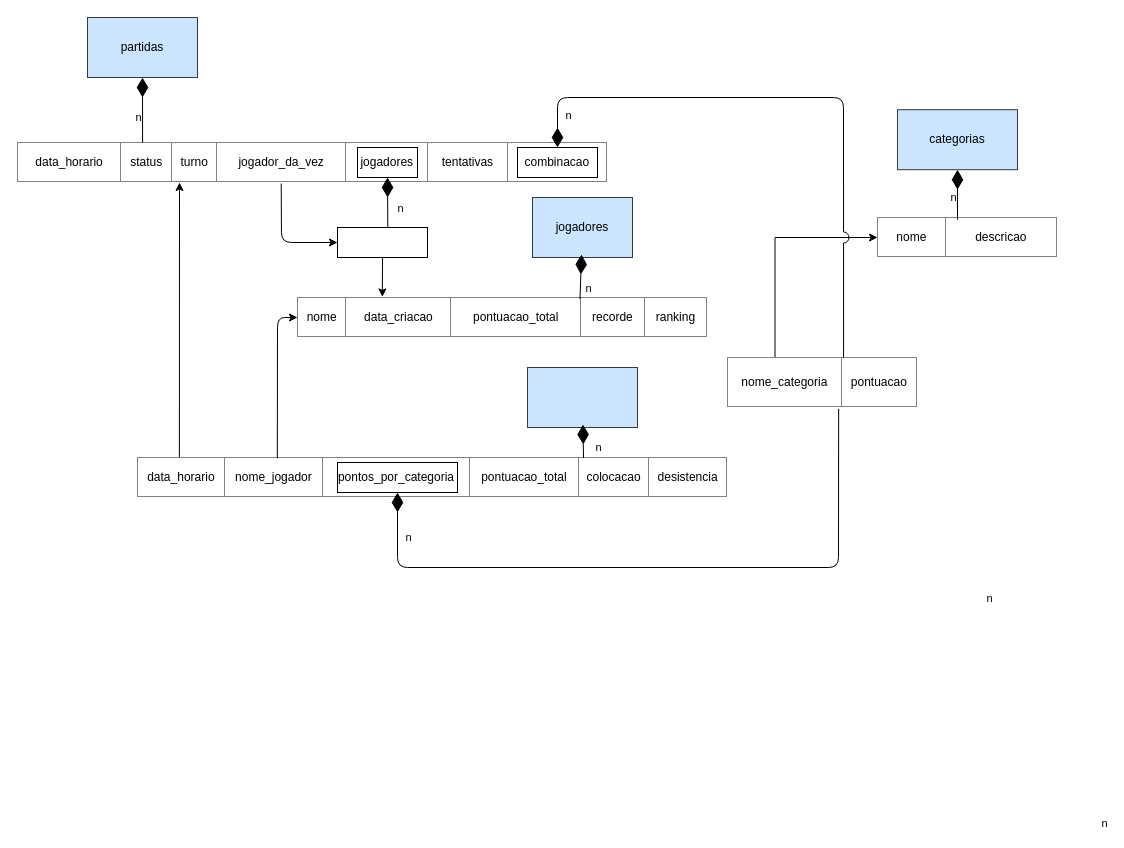
Some shapes in this 1124 by 848 pixel diagram are drawn without their labels. The centre of each missing label's shape, as x and y in pixels:
"nome" belongs at (382,242).
"tabelas" belongs at (582,397).
